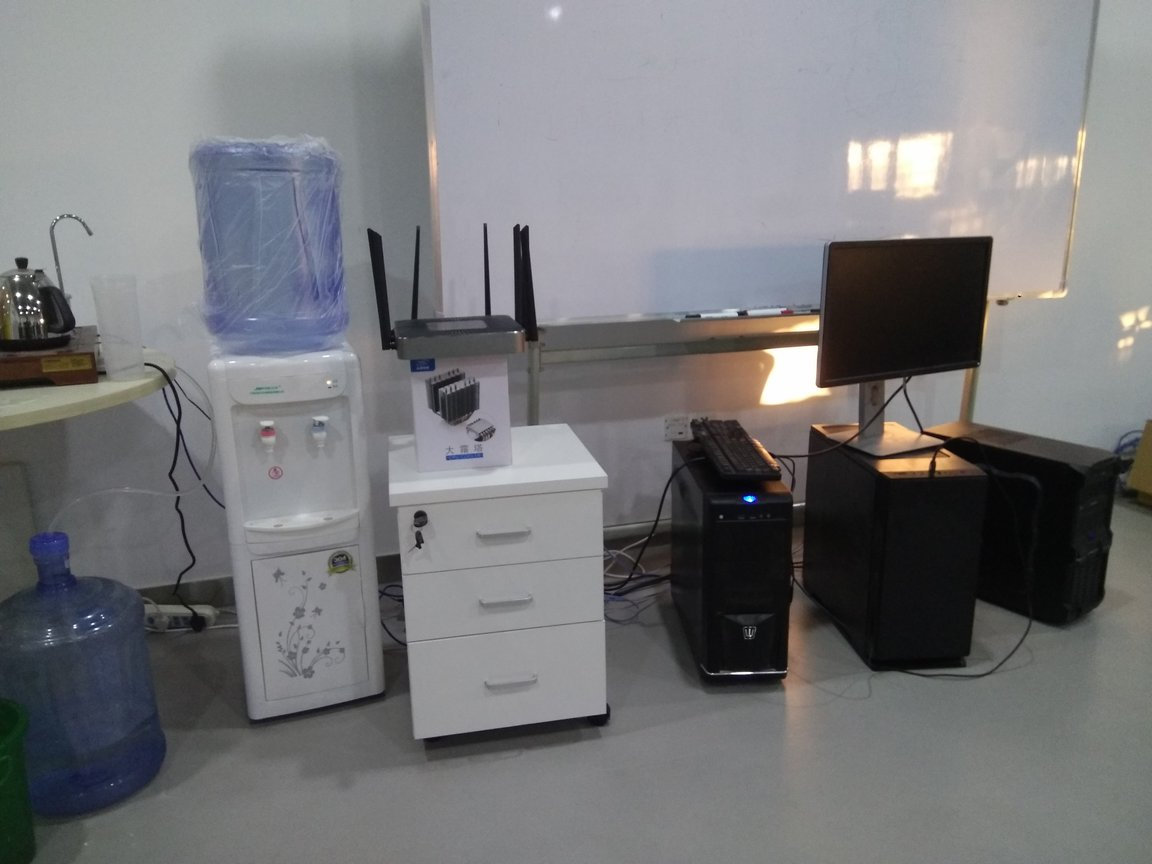computer: (384, 435, 614, 754), (808, 421, 984, 685), (920, 419, 1123, 635), (815, 238, 987, 467), (675, 434, 795, 689)
scuttlebutt: (2, 534, 176, 817), (189, 125, 366, 356)
water dispenser: (200, 332, 394, 722)
